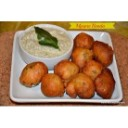bonda: (41, 73, 66, 96), (19, 63, 44, 85), (94, 39, 114, 66), (97, 72, 116, 98), (74, 74, 93, 98), (74, 32, 93, 52), (55, 61, 76, 78), (72, 48, 91, 66), (85, 63, 101, 77)
